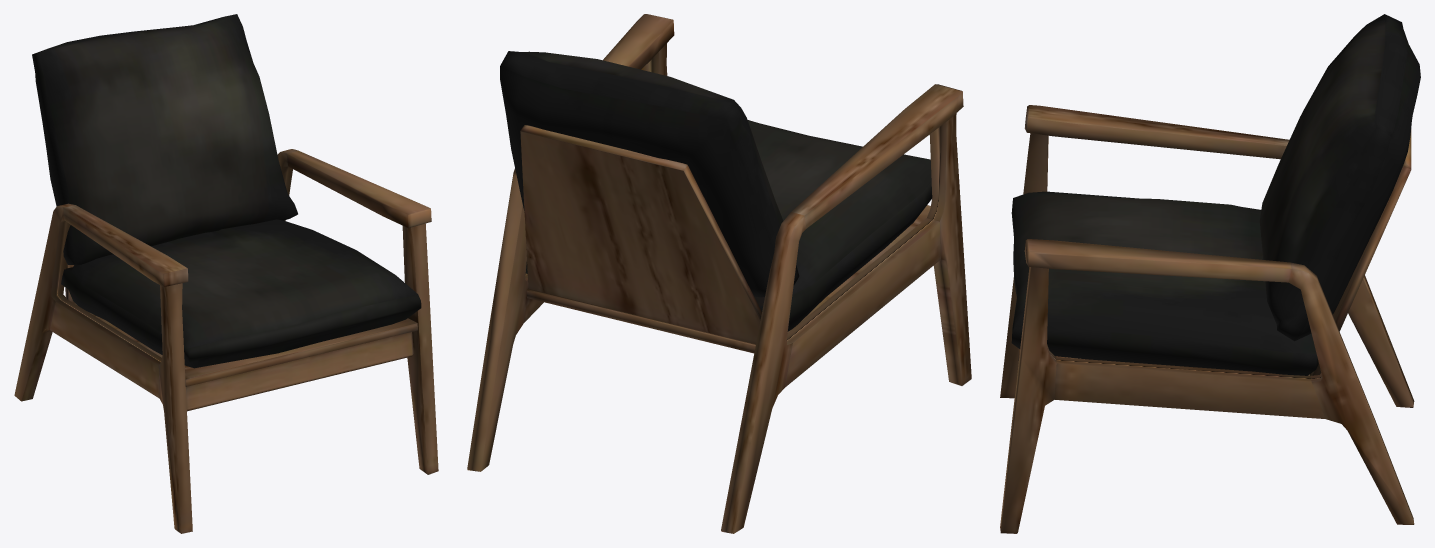
Rendered from armchair.glb.
3 renders of one model, left to right at view 1: azimuth 30°, elevation 25°; view 2: azimuth 150°, elevation 25°; view 3: azimuth 270°, elevation 25°, orthographic. The views are drawn at different scales.
Parts seen in each view (by area): view 1: armchair; view 2: armchair; view 3: armchair.
Part boxes in pixels (x1,y1,x2,y2): armchair: [14, 14, 438, 533]; armchair: [467, 14, 971, 533]; armchair: [1000, 14, 1420, 533].
Size of the model in its own units: 0.8185 by 1.02 by 0.9864.
1 material, 1 textured.
